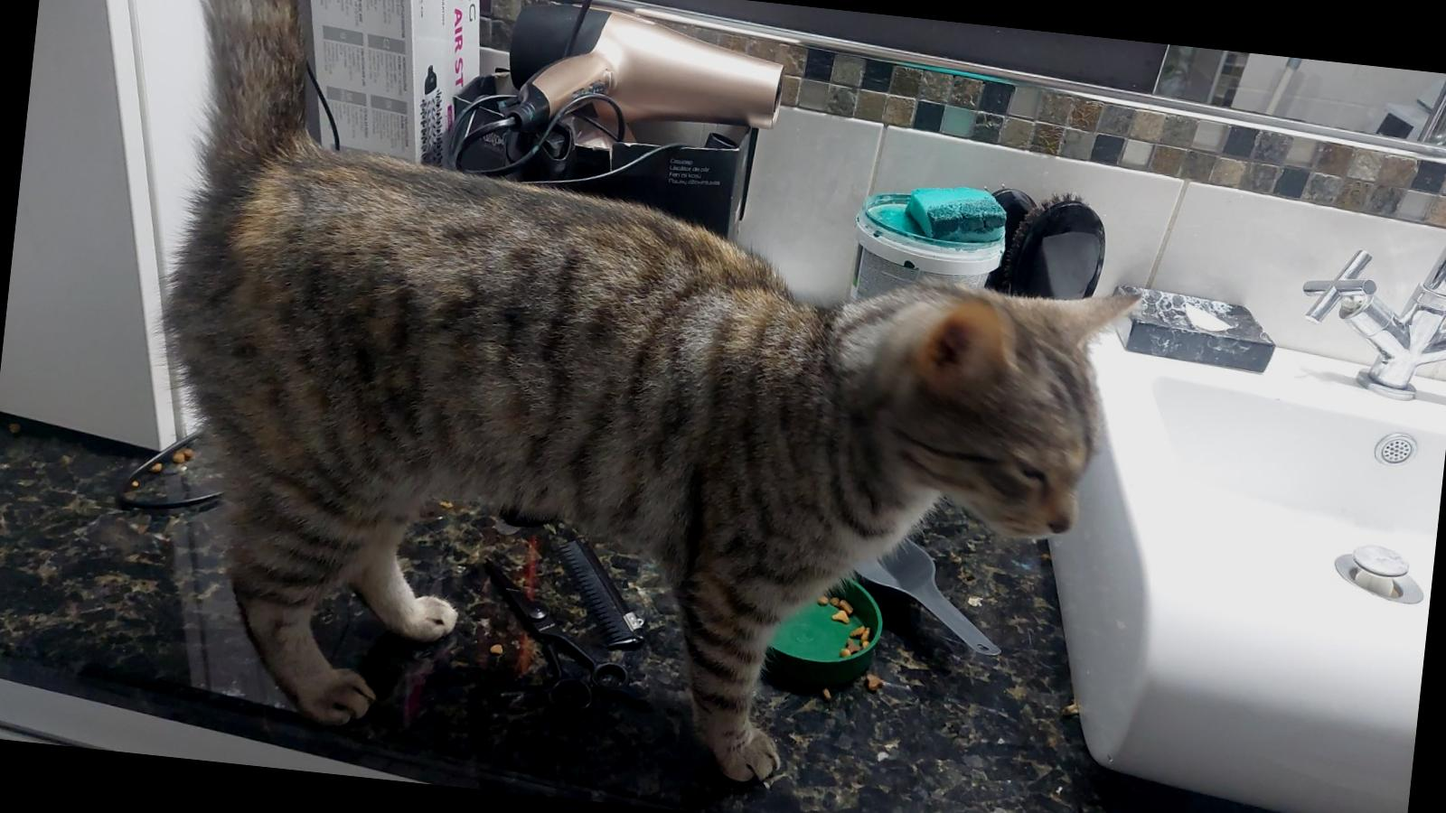macka: (108, 0, 1174, 813)
